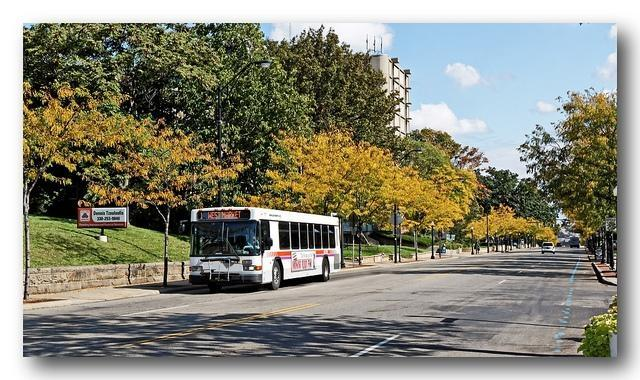bus: (188, 206, 345, 293)
car: (541, 242, 556, 255), (556, 243, 562, 248)
